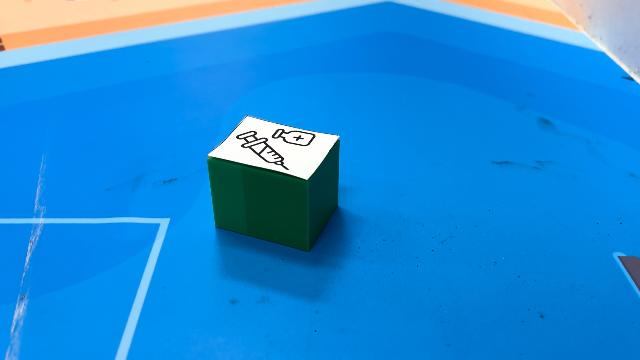syringe: (206, 114, 340, 252)
